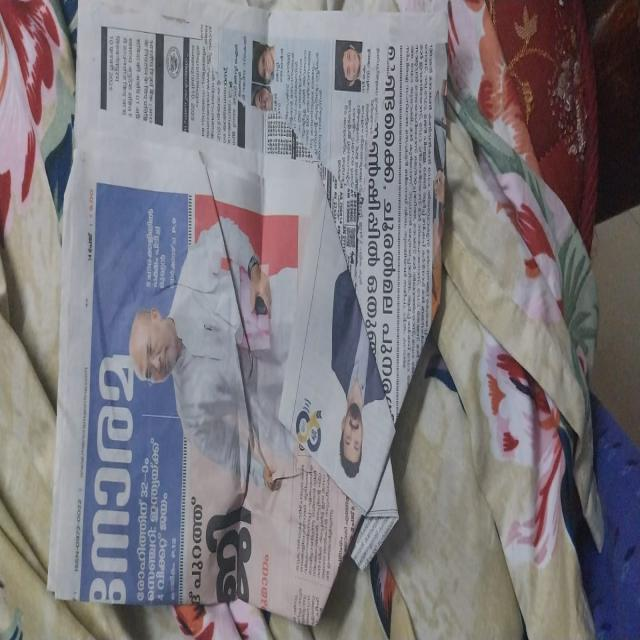Paper - Recyclable: (46, 3, 448, 625)
